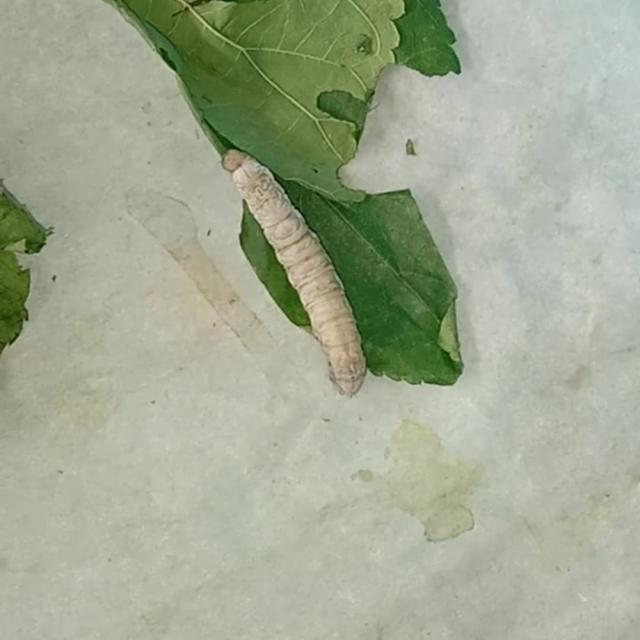Grasserie: (210, 139, 377, 405)
